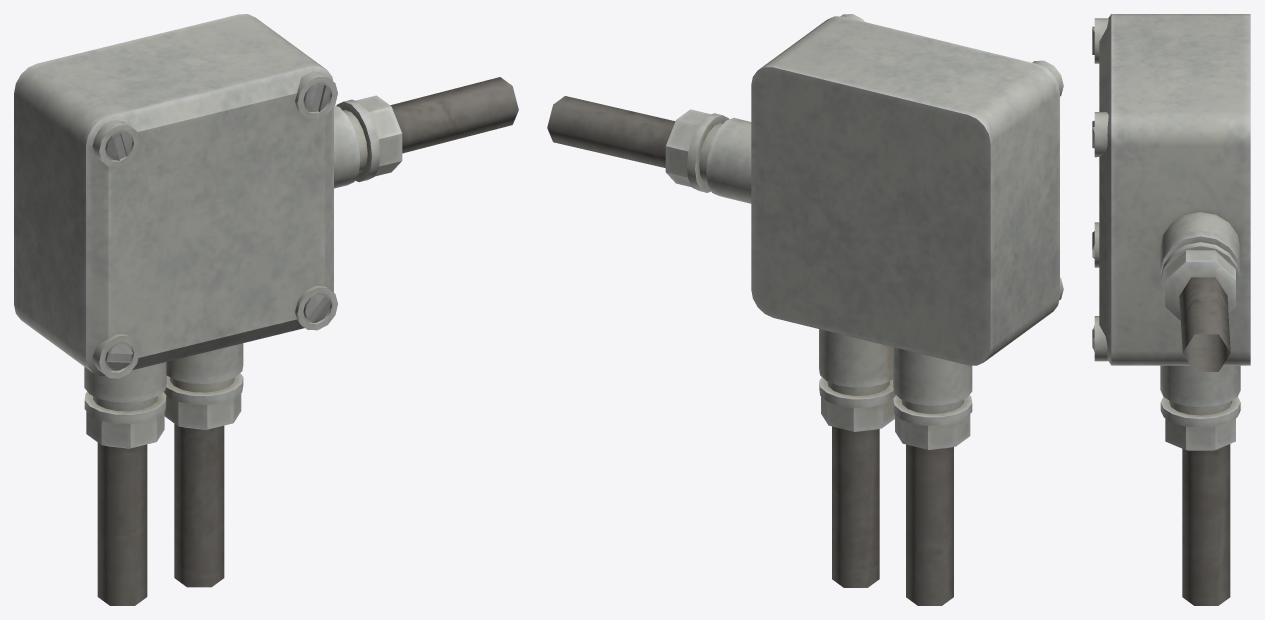
File: cable_cable_box_double_to_single_2.fbx
The picture shows the model from 3 angles, left to right: view 1: azimuth 30°, elevation 25°; view 2: azimuth 150°, elevation 25°; view 3: azimuth 270°, elevation 25°; orthographic projection. The views are drawn at different scales.
Visible parts, largest first — view 1: modular_electric_cables_boxes__cable_box_double_to_single_2; view 2: modular_electric_cables_boxes__cable_box_double_to_single_2; view 3: modular_electric_cables_boxes__cable_box_double_to_single_2.
Part boxes in pixels (x1,y1,x2,y2): modular_electric_cables_boxes__cable_box_double_to_single_2: [14, 14, 518, 605]; modular_electric_cables_boxes__cable_box_double_to_single_2: [547, 14, 1063, 605]; modular_electric_cables_boxes__cable_box_double_to_single_2: [1092, 14, 1250, 605].
Size of the model in its own units: 0.1223 by 0.1323 by 0.0369.
